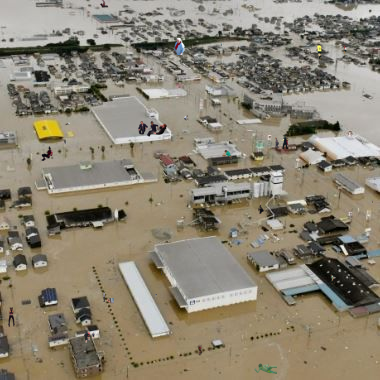Human: (316, 45, 347, 61), (138, 121, 169, 137), (195, 340, 213, 358), (254, 363, 277, 374), (174, 38, 185, 55), (41, 146, 53, 161), (222, 150, 232, 165), (280, 135, 290, 149), (8, 307, 15, 327), (84, 331, 95, 343), (100, 0, 115, 8), (325, 274, 335, 285), (181, 202, 197, 208), (258, 200, 264, 214), (274, 137, 279, 148), (61, 122, 70, 127), (107, 298, 114, 304), (294, 89, 305, 92), (184, 115, 189, 121), (103, 292, 105, 302), (155, 294, 157, 297), (9, 279, 10, 284), (161, 271, 162, 275), (221, 43, 222, 46), (372, 200, 373, 203)
